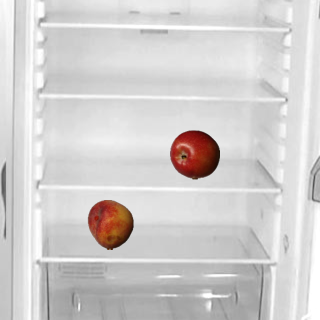Apple Braeburn: (169, 129, 219, 179)
Peach: (85, 199, 135, 249)
